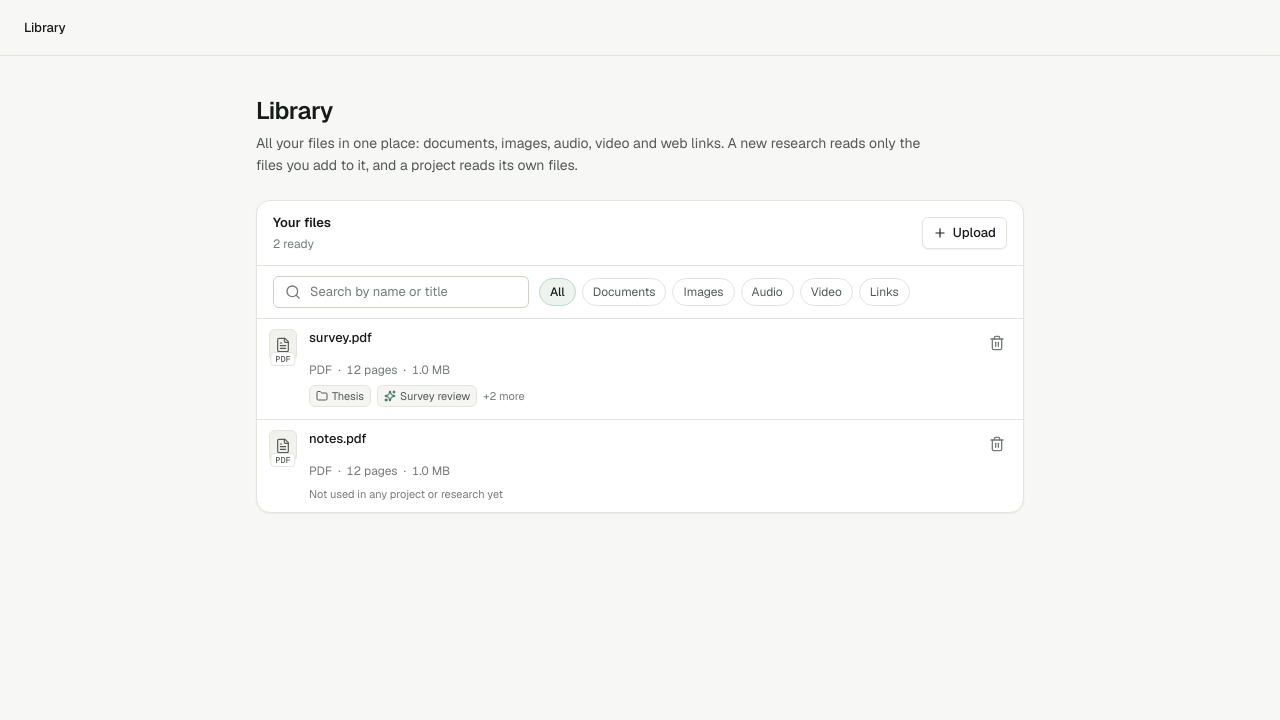
Library page › asks the server for the chosen file type and search
This screenshot has width=1280, height=720.
Later steps or results of the test are not shown.
Expected: the text "survey.pdf" is shown, [309, 328, 372, 346]
Click the button "Images".
click(704, 292)  # box [672, 278, 735, 306]
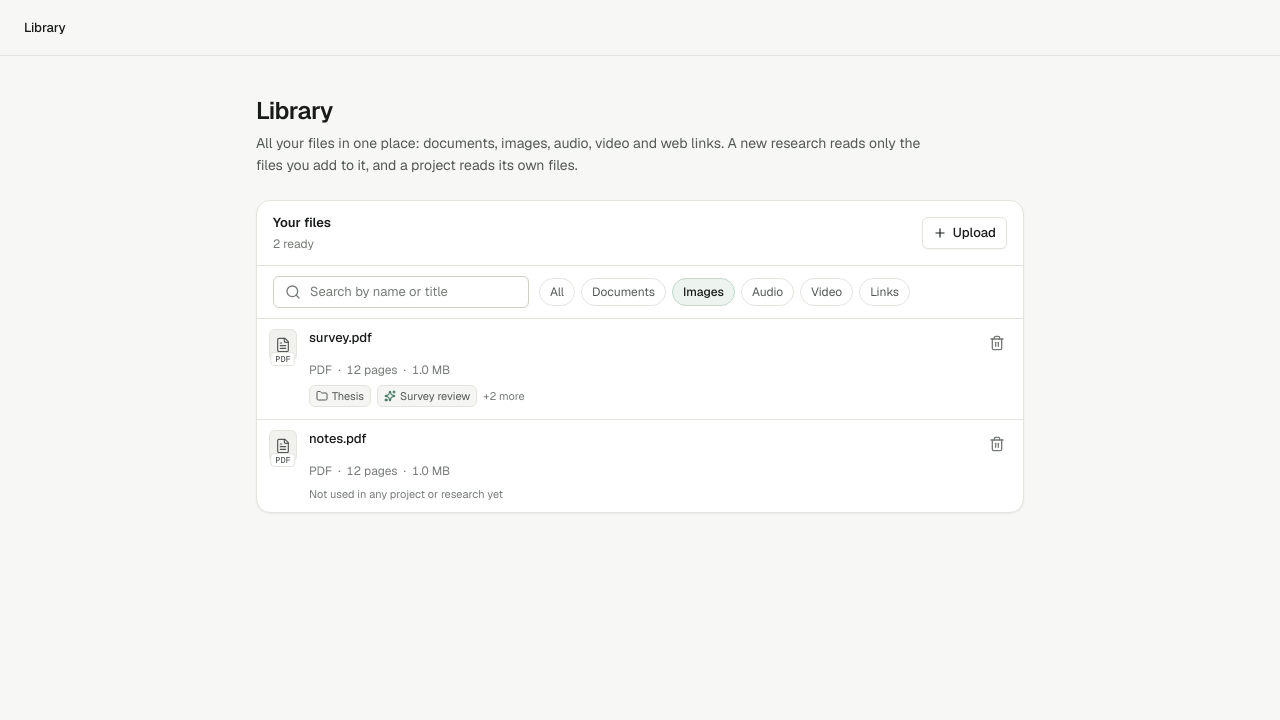
Expected: the button "Images" is pressed, [672, 278, 735, 306]
